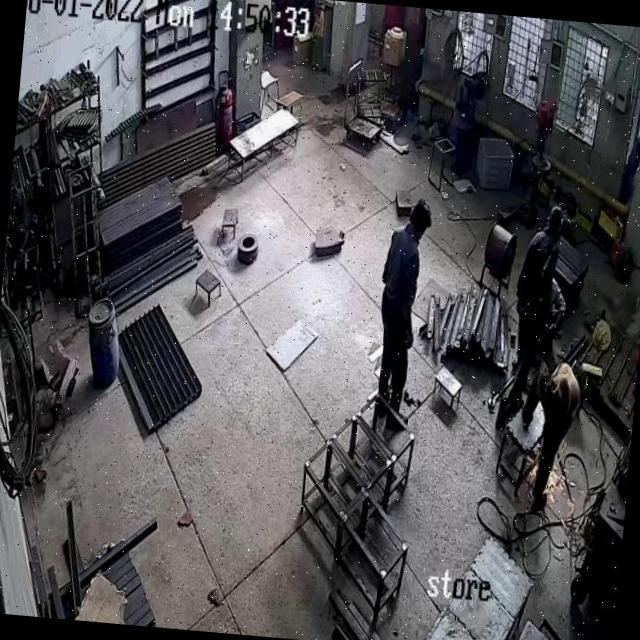person: (377, 207, 430, 392), (519, 206, 566, 360), (521, 364, 596, 458)
